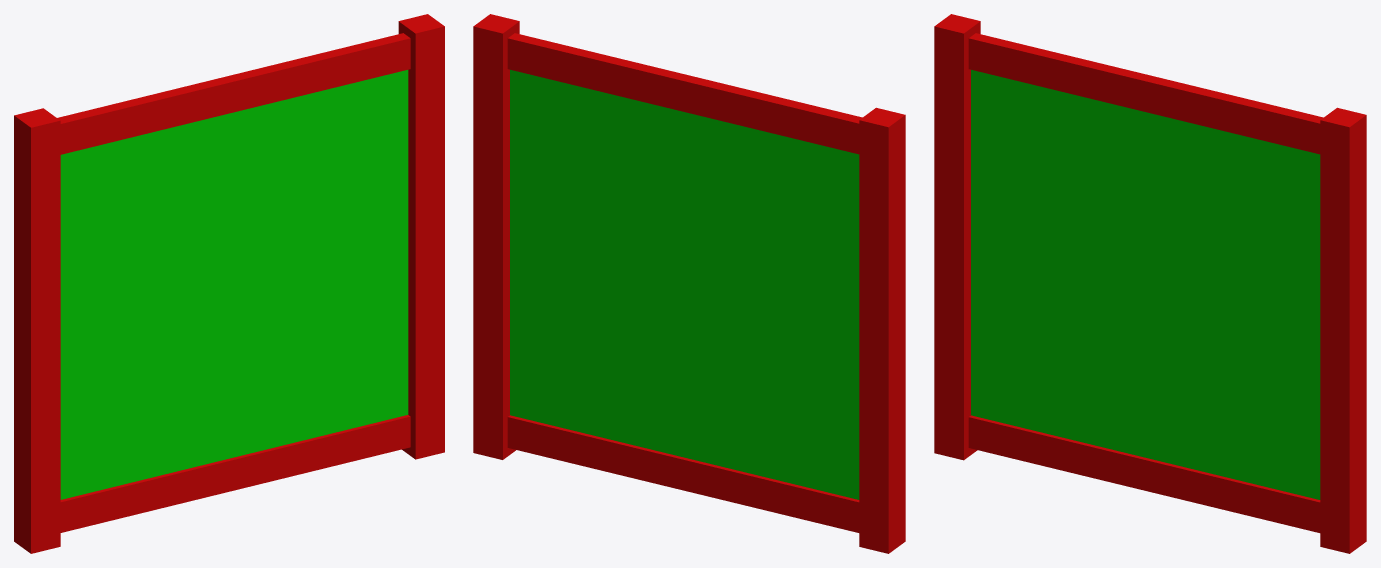
The model's file is Lighthouse_Building_H2.fbx.
3 renders of one model, left to right at view 1: azimuth 30°, elevation 25°; view 2: azimuth 150°, elevation 25°; view 3: azimuth 330°, elevation 25°, orthographic.
Visible parts, largest first — view 1: Lighthouse_Building_H_2; view 2: Lighthouse_Building_H_2; view 3: Lighthouse_Building_H_2.
Boxes of the visible parts, <box> form: Lighthouse_Building_H_2: <box>14,14,444,553</box>; Lighthouse_Building_H_2: <box>473,14,905,553</box>; Lighthouse_Building_H_2: <box>934,14,1366,553</box>.
Size of the model in its own units: 203 by 200 by 14.82.
